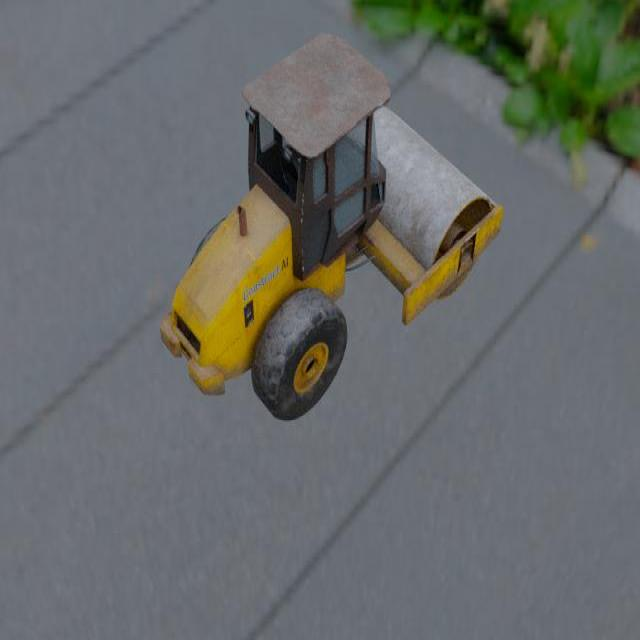Roller: (159, 32, 504, 421)
